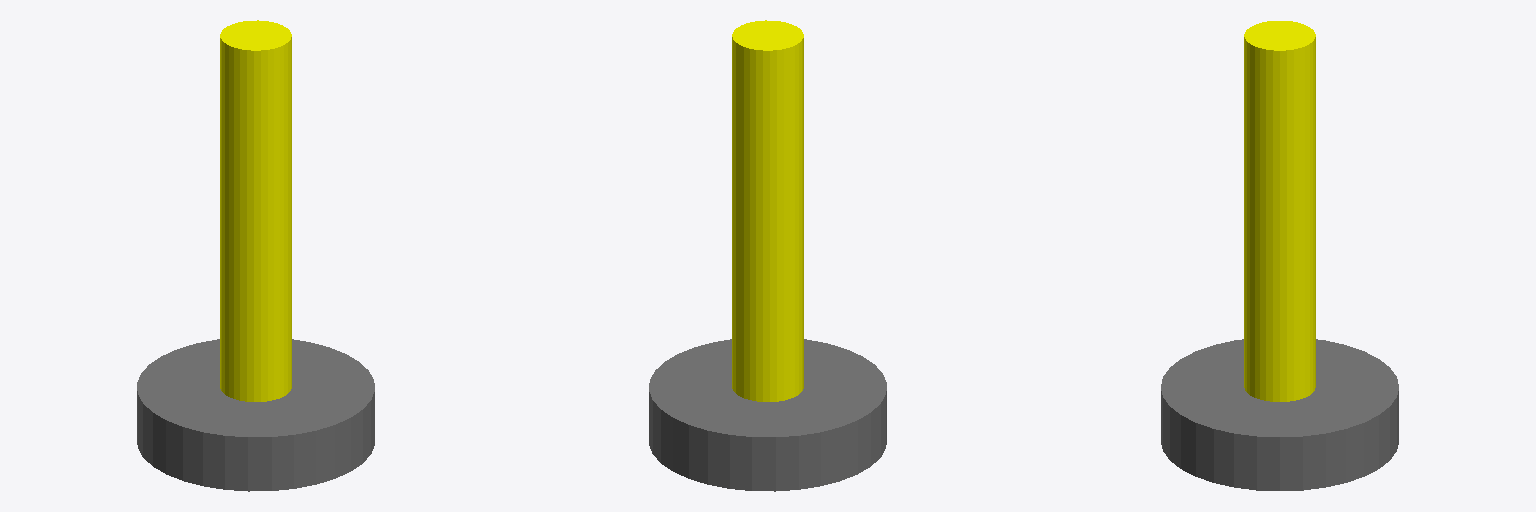
URDF robot description (rod):
<?xml version="1.0" ?>
<robot name="rod">
  <link name="rod_base_link">
    <contact>
      <restitution value="1.0"/>
      <lateral_friction value="0.5"/>
      <rolling_friction value="0.001"/>
      <contact_cfm value="0.0"/>
      <contact_erp value="1.0"/>
    </contact>
    <inertial>
      <mass value="0.2"/>
      <inertia ixx="0.0003267" ixy="0.0" ixz="0.0" iyy="0.0003267" iyz="0.0" izz="0.00009"/>
      <origin rpy="0 0 0" xyz="0 0 0"/>
    </inertial>
    <visual>
      <geometry>
        <cylinder length="0.05" radius="0.1"/>
      </geometry>
      <origin rpy="0 0 0" xyz="0 0 0"/>
       <material name="gray">
        <color rgba="0.5 0.5 0.5 1"/>
      </material>
    </visual>
    <collision>
      <origin rpy="0 0 0" xyz="0 0 0"/>
      <geometry>
        <cylinder length="0.05" radius="0.1"/>
      </geometry>
    </collision>
  </link>
  <joint name="base_to_rod" type="fixed">
    <parent link="rod_base_link"/>
    <child link="rod_link"/>
    <origin xyz="0 0 0.175" rpy="0 0 0"/>
  </joint>
  <link name="rod_link">
    <inertial>
      <origin rpy="0 0 0" xyz="0 0 0"/>
      <mass value="0.01"/>
      <inertia ixx="0.0001" ixy="0" ixz="0" iyy="0.0001" iyz="0" izz="0.0001"/>
    </inertial>
    <visual>
      <origin rpy="0 0 0" xyz="0 0 0"/>
      <geometry>
        <cylinder length="0.35" radius="0.03"/>
      </geometry>
       <material name="yellow">
        <color rgba="1 1 0 1"/>
      </material>
    </visual>
    <collision>
      <origin rpy="0 0 0" xyz="0 0 0"/>
      <geometry>
        <cylinder length="0.35" radius="0.03"/>
      </geometry>
    </collision>
  </link>
</robot>

--- Facts derived from the render (not from the file) ---
The picture shows the robot from 3 angles, left to right: view 1: azimuth 30°, elevation 25°; view 2: azimuth 150°, elevation 25°; view 3: azimuth 270°, elevation 25°; orthographic projection.
Model rod with 2 links and 1 joints (1 fixed), rooted at rod_base_link, posed every joint at zero.
Links seen in each view (by area): view 1: rod_base_link, rod_link; view 2: rod_base_link, rod_link; view 3: rod_base_link, rod_link.
Boxes of the visible links, box(x1,y1,x2,y2) form: rod_base_link: box(137, 339, 374, 491); rod_link: box(220, 20, 291, 401); rod_base_link: box(649, 339, 886, 491); rod_link: box(732, 20, 803, 401); rod_base_link: box(1161, 339, 1398, 490); rod_link: box(1244, 21, 1315, 401).
Bounding box of the posed robot: 0.2 × 0.2 × 0.375 m (x, y, z).
Geometry: primitives only (box / cylinder / sphere), no mesh files.